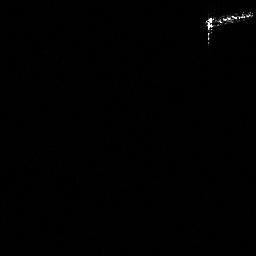ship: (200, 8, 255, 49)
